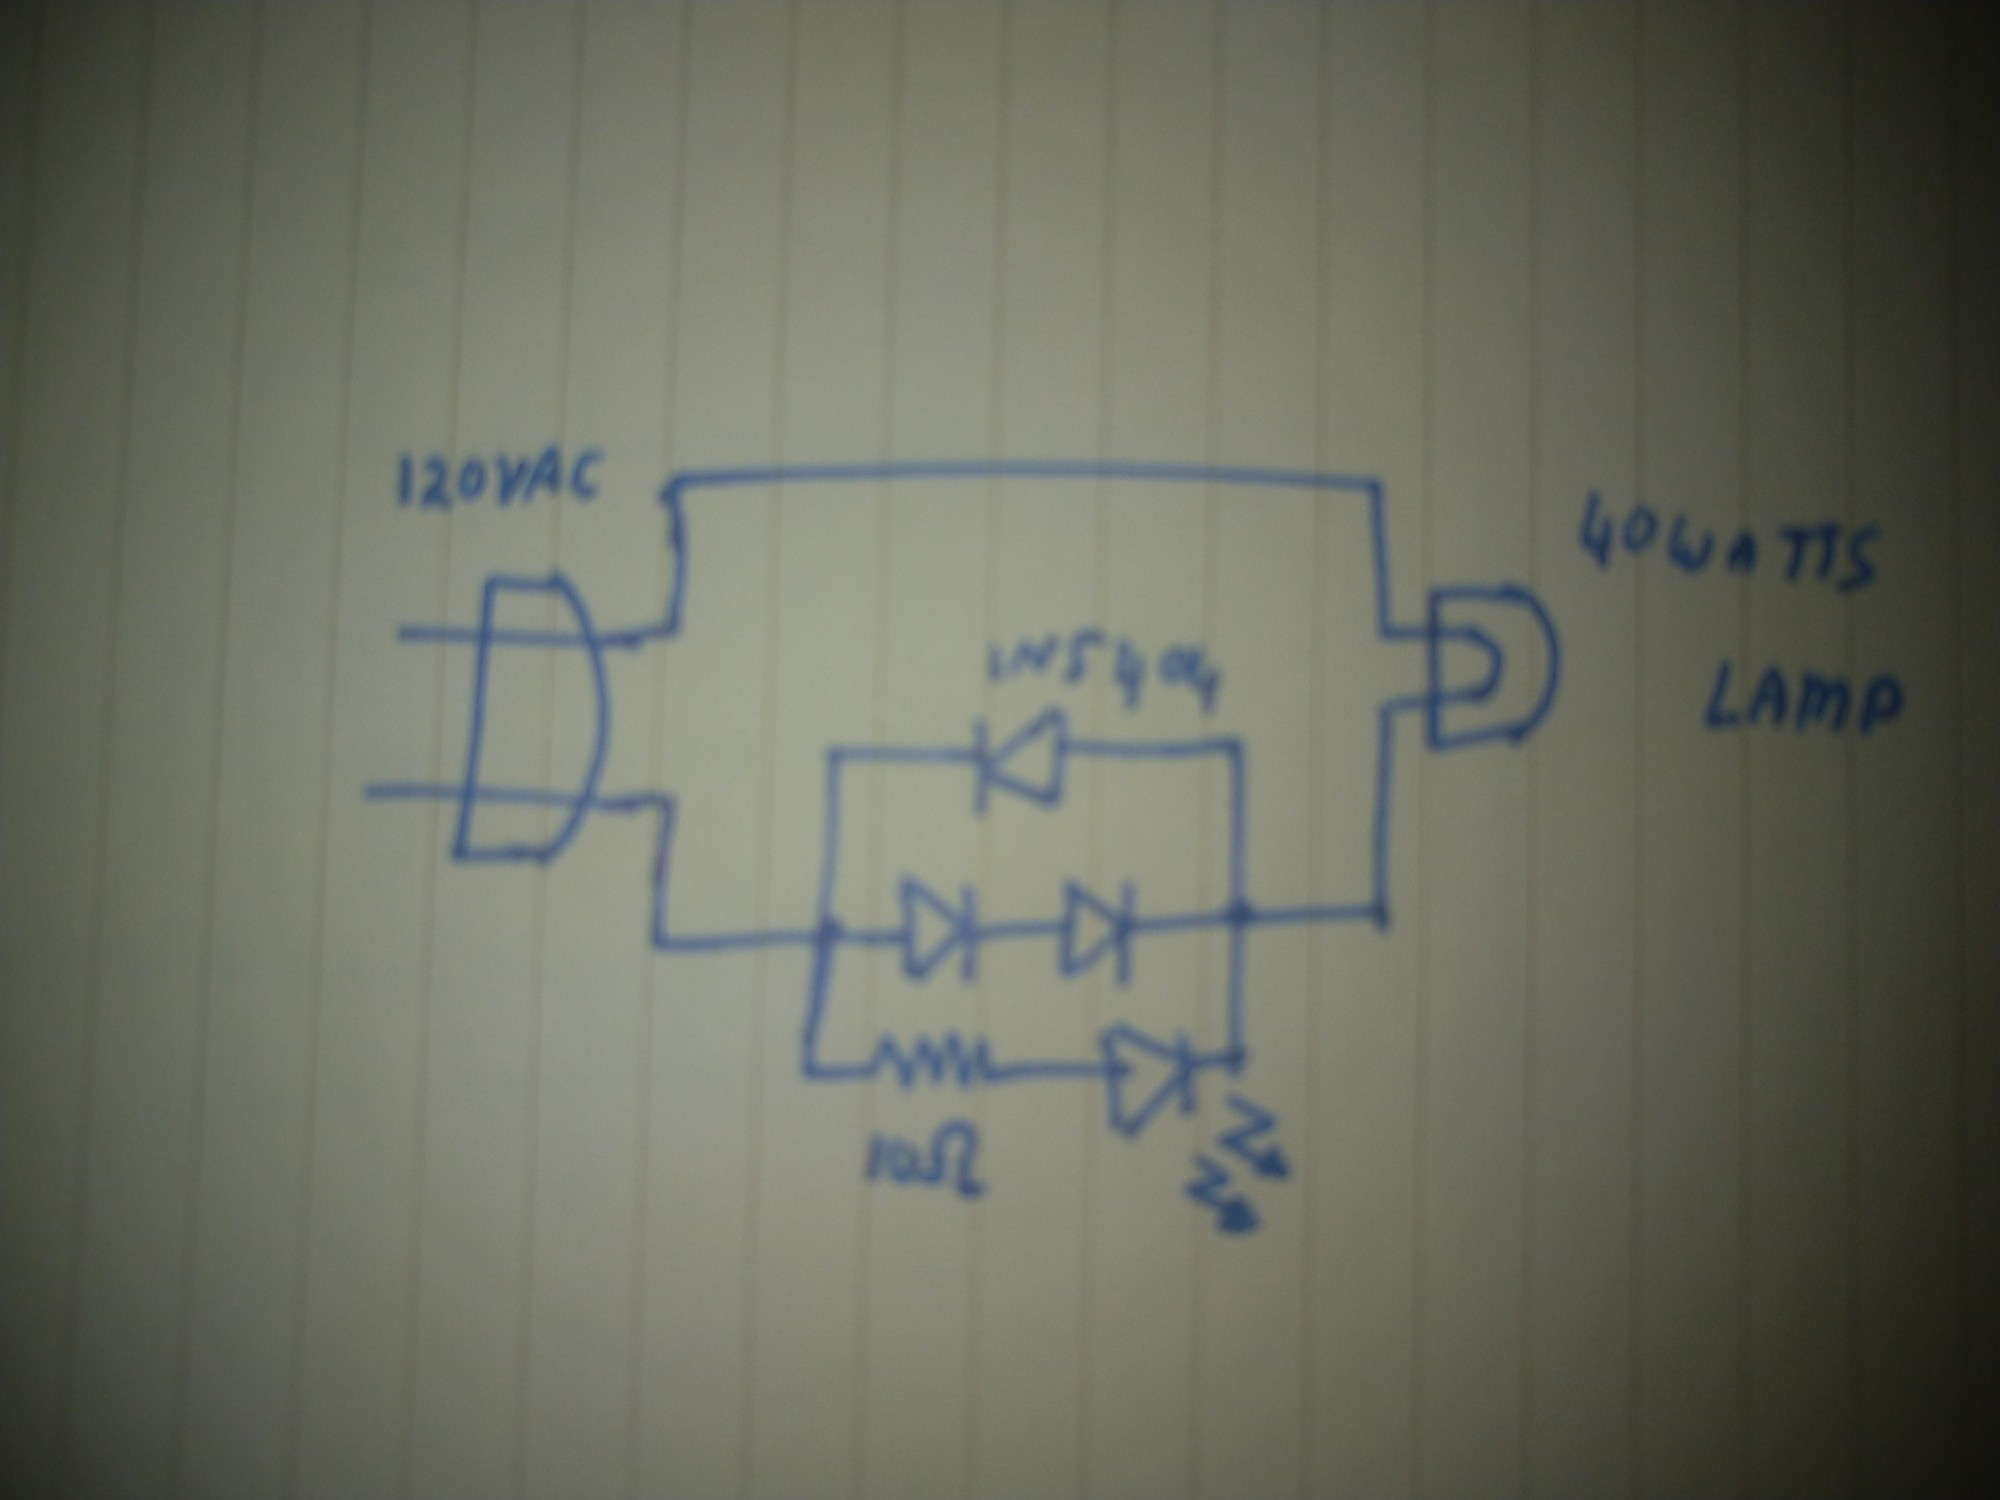diode: (956, 703, 1082, 826), (891, 870, 992, 991), (1050, 873, 1145, 993)
diode.light_emitting: (1091, 1016, 1302, 1238)
junction: (643, 596, 713, 655), (813, 731, 869, 785), (795, 904, 850, 958), (1353, 882, 1402, 937), (1213, 890, 1265, 939), (644, 774, 694, 822), (638, 914, 683, 966), (1209, 723, 1258, 770), (646, 463, 698, 507), (784, 1049, 828, 1093), (1351, 463, 1398, 503), (1364, 614, 1409, 652), (1365, 689, 1409, 726)
lamp: (1417, 570, 1572, 759)
resistor: (849, 1024, 1009, 1100)
socket: (441, 566, 624, 881)
terminal: (340, 774, 402, 815), (376, 614, 431, 657)
text: (1561, 477, 1894, 608), (1676, 644, 1917, 759), (967, 616, 1230, 715), (387, 438, 619, 518), (844, 1109, 1008, 1209)
